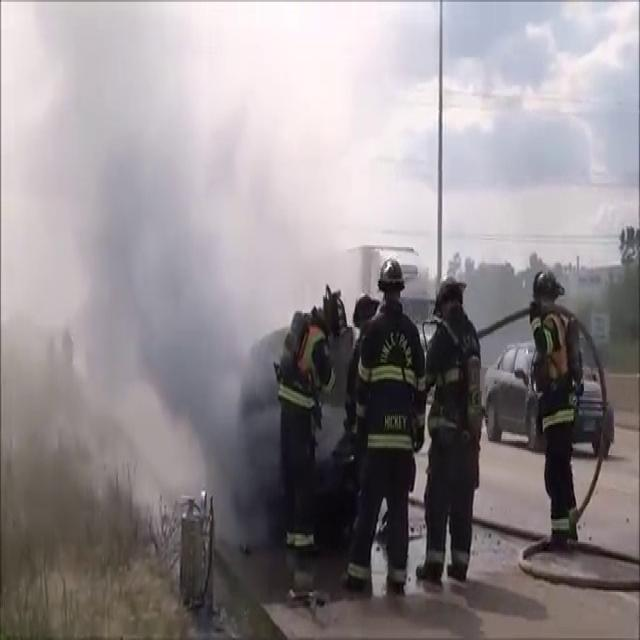Smoke: (2, 3, 280, 560)
